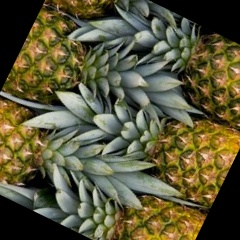Pineapple: (34, 87, 240, 205)
